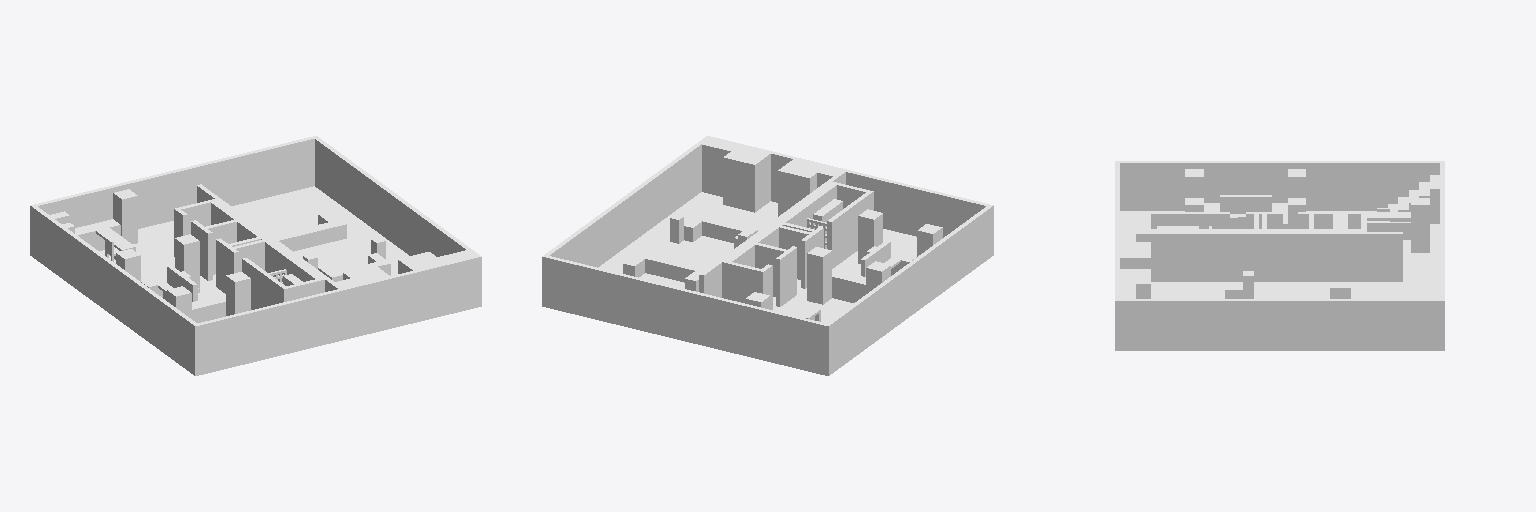
The model's file is fase1.obj.
3 renders of one model, left to right at view 1: azimuth 30°, elevation 25°; view 2: azimuth 150°, elevation 25°; view 3: azimuth 270°, elevation 25°, orthographic.
Size of the model in its own units: 126 by 21 by 126.